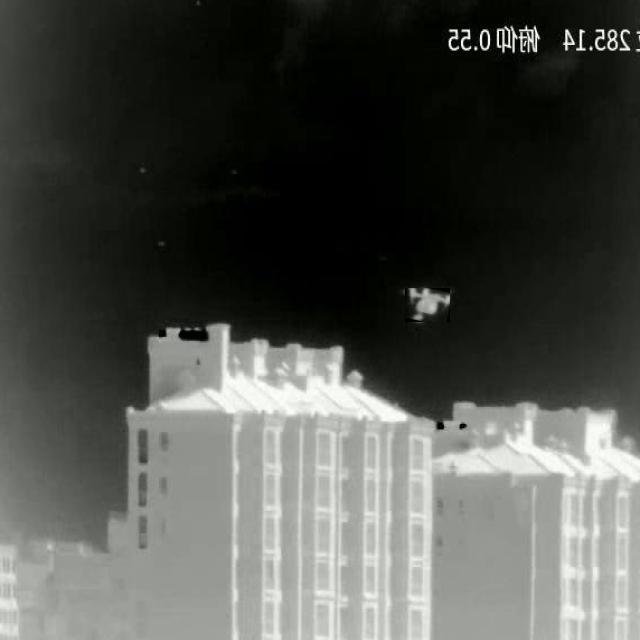drone: (408, 288, 450, 321)
